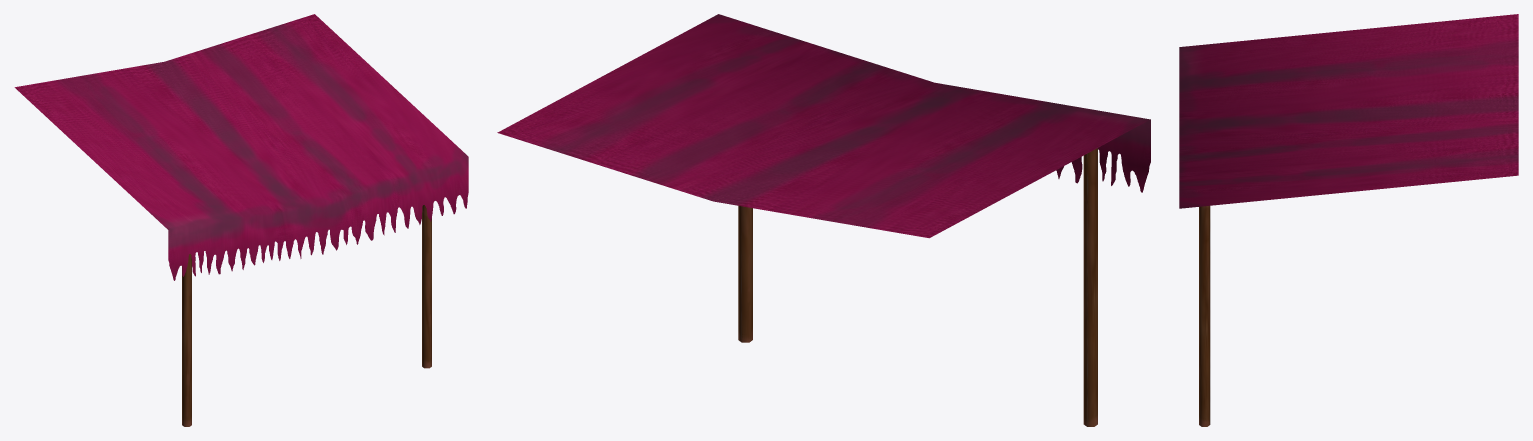
File: Stand.fbx
3 renders of one model, left to right at view 1: azimuth 30°, elevation 25°; view 2: azimuth 150°, elevation 25°; view 3: azimuth 270°, elevation 25°, orthographic. The views are drawn at different scales.
Parts seen in each view (by area): view 1: Circle.003; view 2: Circle.003; view 3: Circle.003.
Part boxes in pixels (bbox=[...]): Circle.003: bbox=[14, 14, 468, 426]; Circle.003: bbox=[497, 14, 1150, 426]; Circle.003: bbox=[1179, 14, 1518, 426].
Size of the model in its own units: 246 by 189 by 219.
